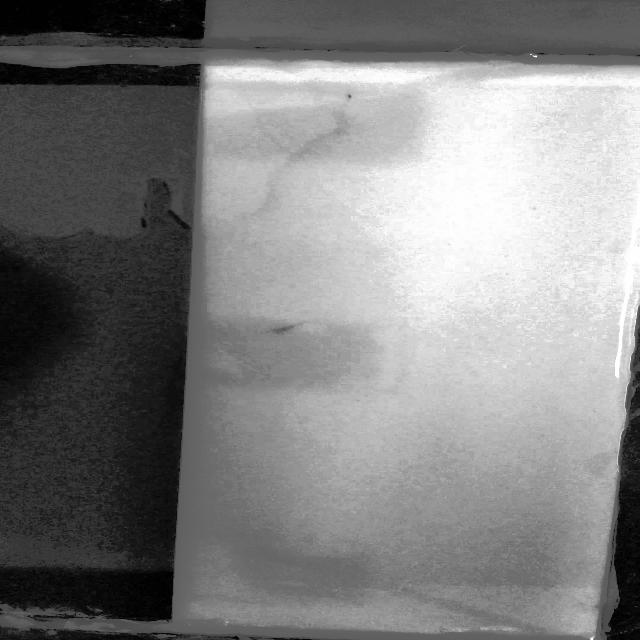shrimp: (270, 320, 301, 337), (343, 87, 369, 107)
